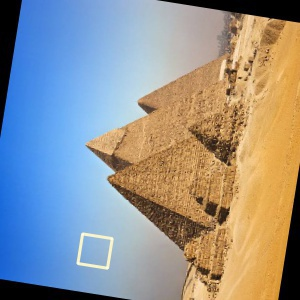square: (75, 229, 114, 271)
